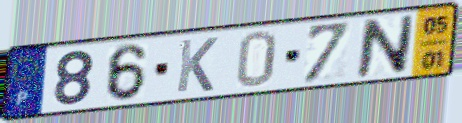0: (233, 29, 279, 90)
6: (105, 41, 152, 103)
7: (305, 19, 355, 85)
8: (52, 48, 95, 107)
K: (174, 35, 220, 95)
N: (354, 13, 418, 80)
